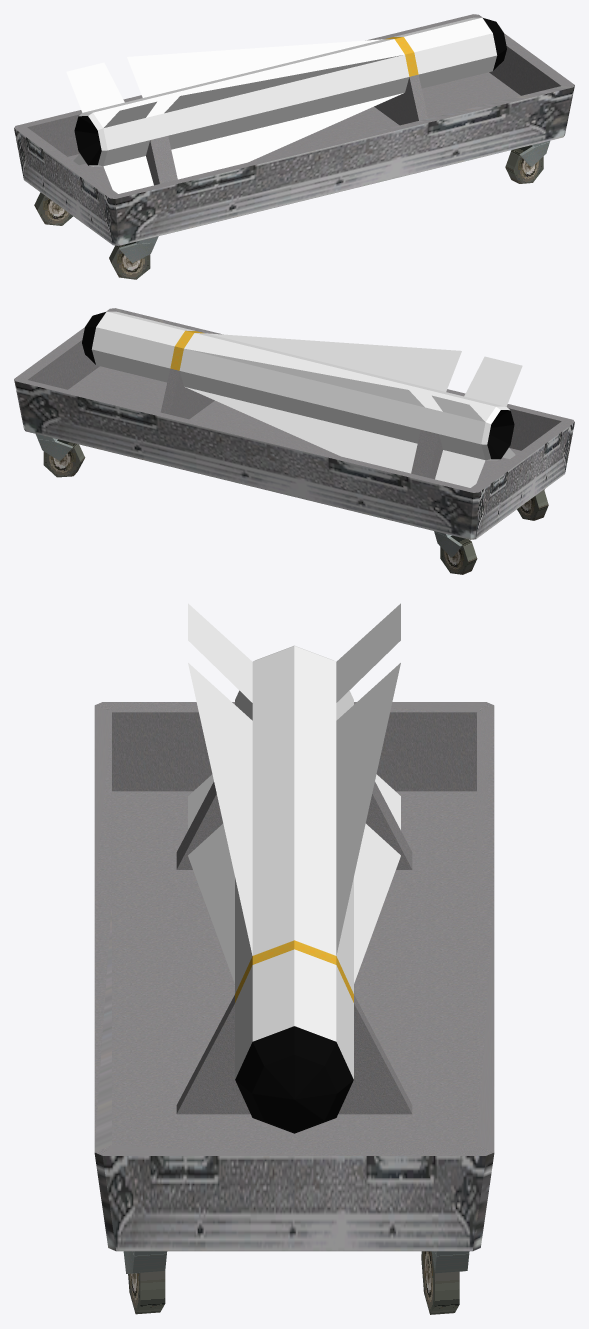
Rendered from missile_07_sfxr.obj.
The picture shows the model from 3 angles, top to bottom: view 1: azimuth 30°, elevation 25°; view 2: azimuth 150°, elevation 25°; view 3: azimuth 270°, elevation 25°; orthographic projection. The views are drawn at different scales.
Parts seen in each view (by area): view 1: missile_07_SFXR; view 2: missile_07_SFXR; view 3: missile_07_SFXR.
Boxes of the visible parts, x1=… form: missile_07_SFXR: x1=14, y1=14, x2=574, y2=279; missile_07_SFXR: x1=14, y1=308, x2=574, y2=574; missile_07_SFXR: x1=94, y1=603, x2=494, y2=1314.
Bounding box in the file's own units: 3.16 × 1.04 × 1.18.
Materials: 7 (7 with a texture image).
